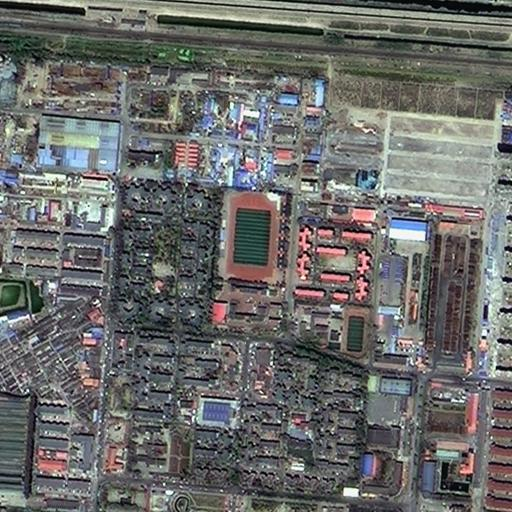school: (213, 189, 290, 334), (290, 303, 372, 363)
